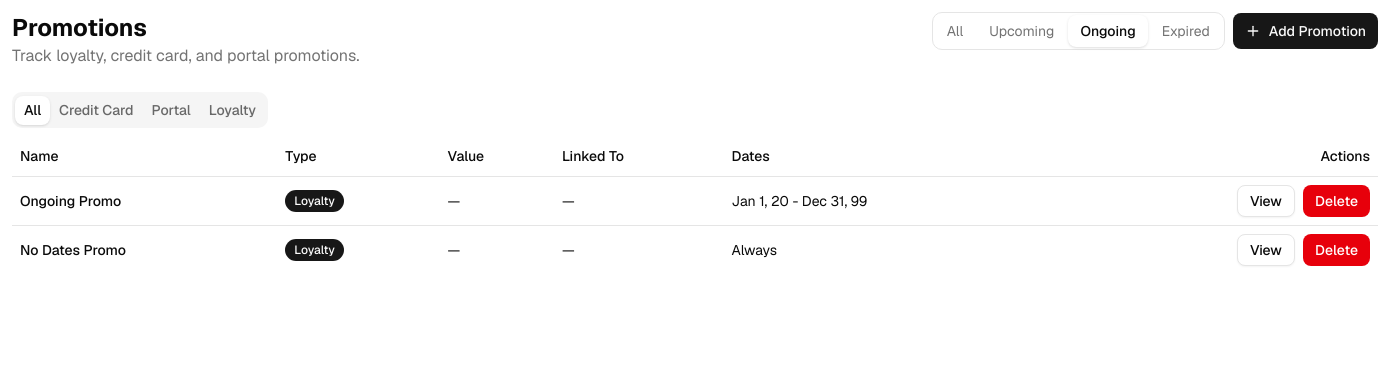
PromotionsPage status filter › shows all promos under All filter
The image size is (1378, 381).
Expected: the element with test id "promotions-list-desktop" is shown, [12,136,1377,274]
Click the button with test id "status-filter-all".
click(955, 31)  # box [935,15,975,47]
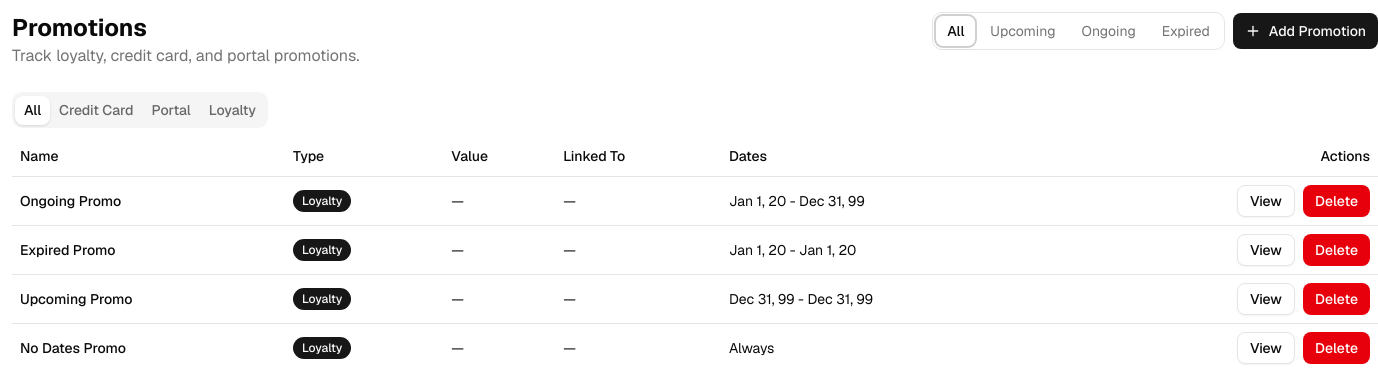
Expected: the link "Ongoing Promo" is shown, [20,192,121,210]
Expected: the link "Expired Promo" is shown, [20,240,115,258]
Expected: the link "Upcoming Promo" is shown, [20,290,132,308]
